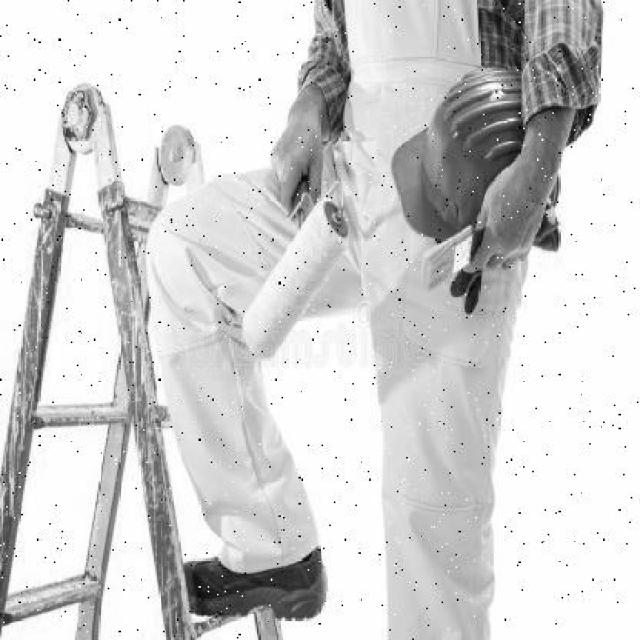shoes: (180, 544, 334, 627)
